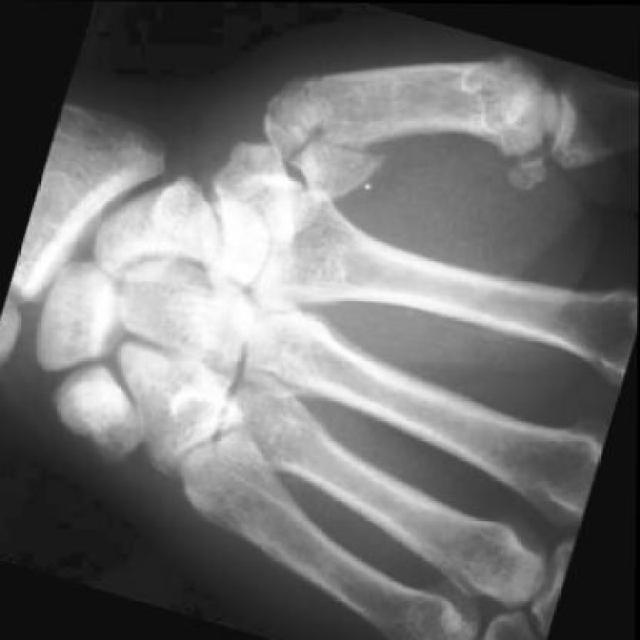Fracture: (265, 102, 411, 237)
